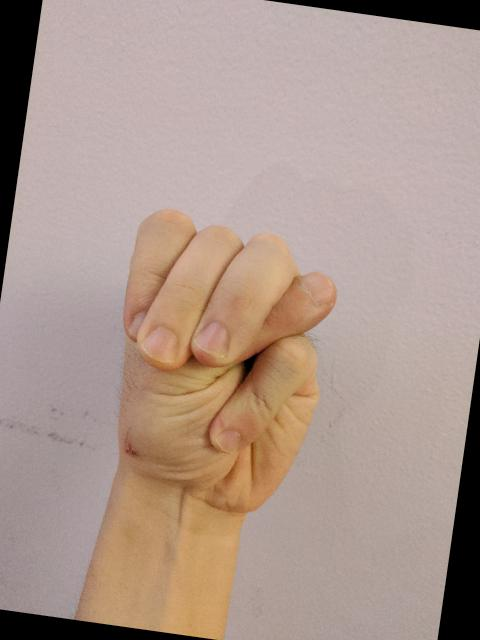M: (86, 195, 354, 526)
